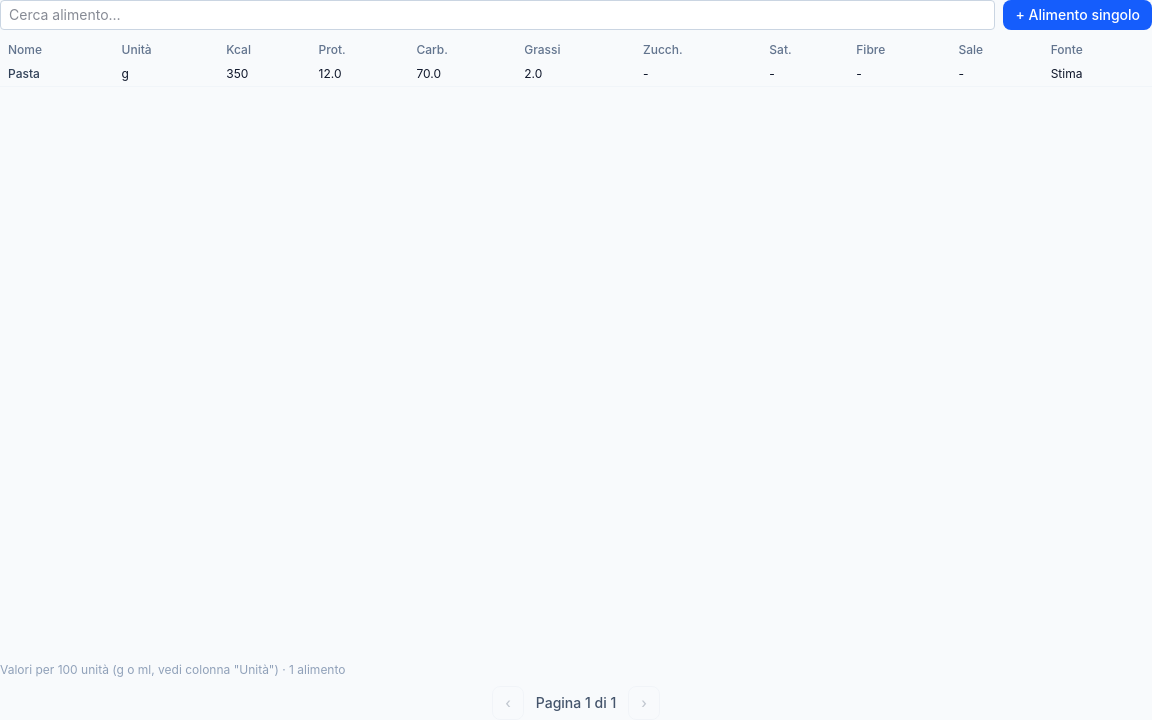
Test: LibroAlimentiPanel › LibroAlimentiPanel_clicSuUnaRiga_apreLeAzioniPerQuellAlimento
The width and height of the screenshot is (1152, 720).
What coordinates should you click on to do the following:
click the text "Pasta"
I would click on:
 (24, 74)
Its box is [0,62,114,86].
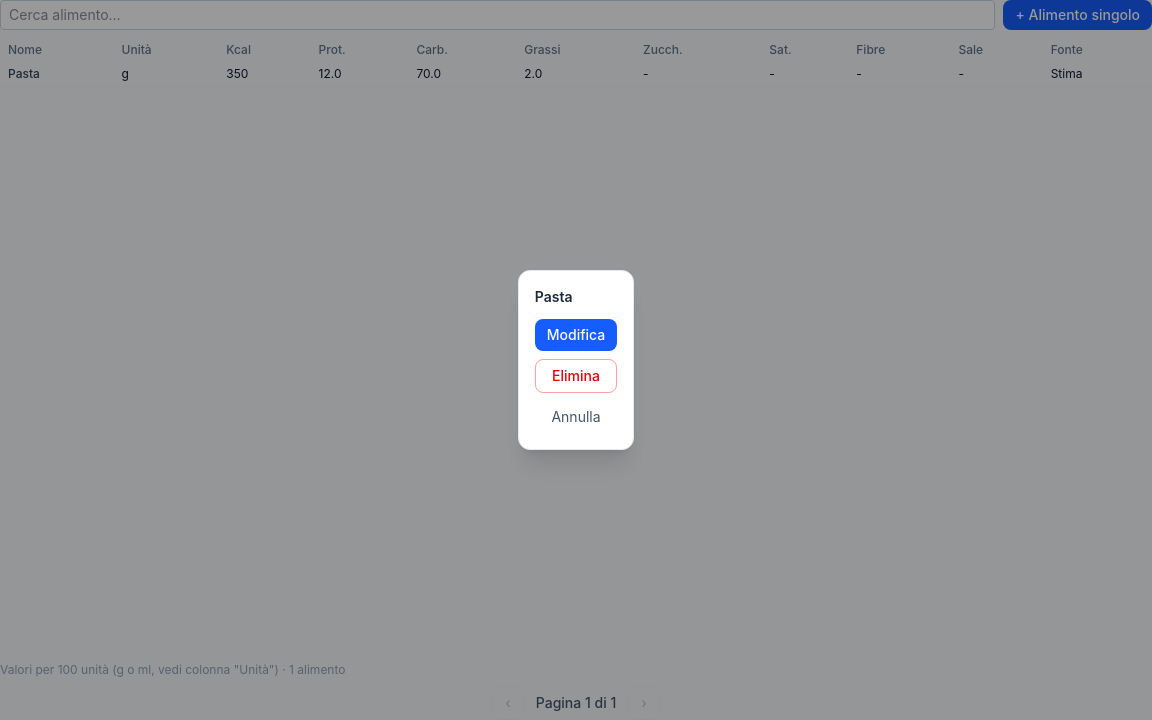
Now the button "Modifica" is shown, box [535,319,617,351]
